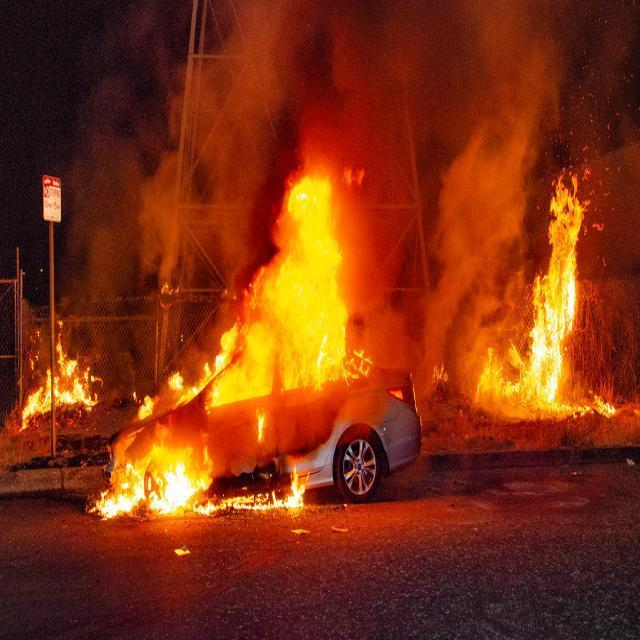Fire: (238, 195, 359, 412), (510, 196, 595, 429), (108, 439, 222, 517)
